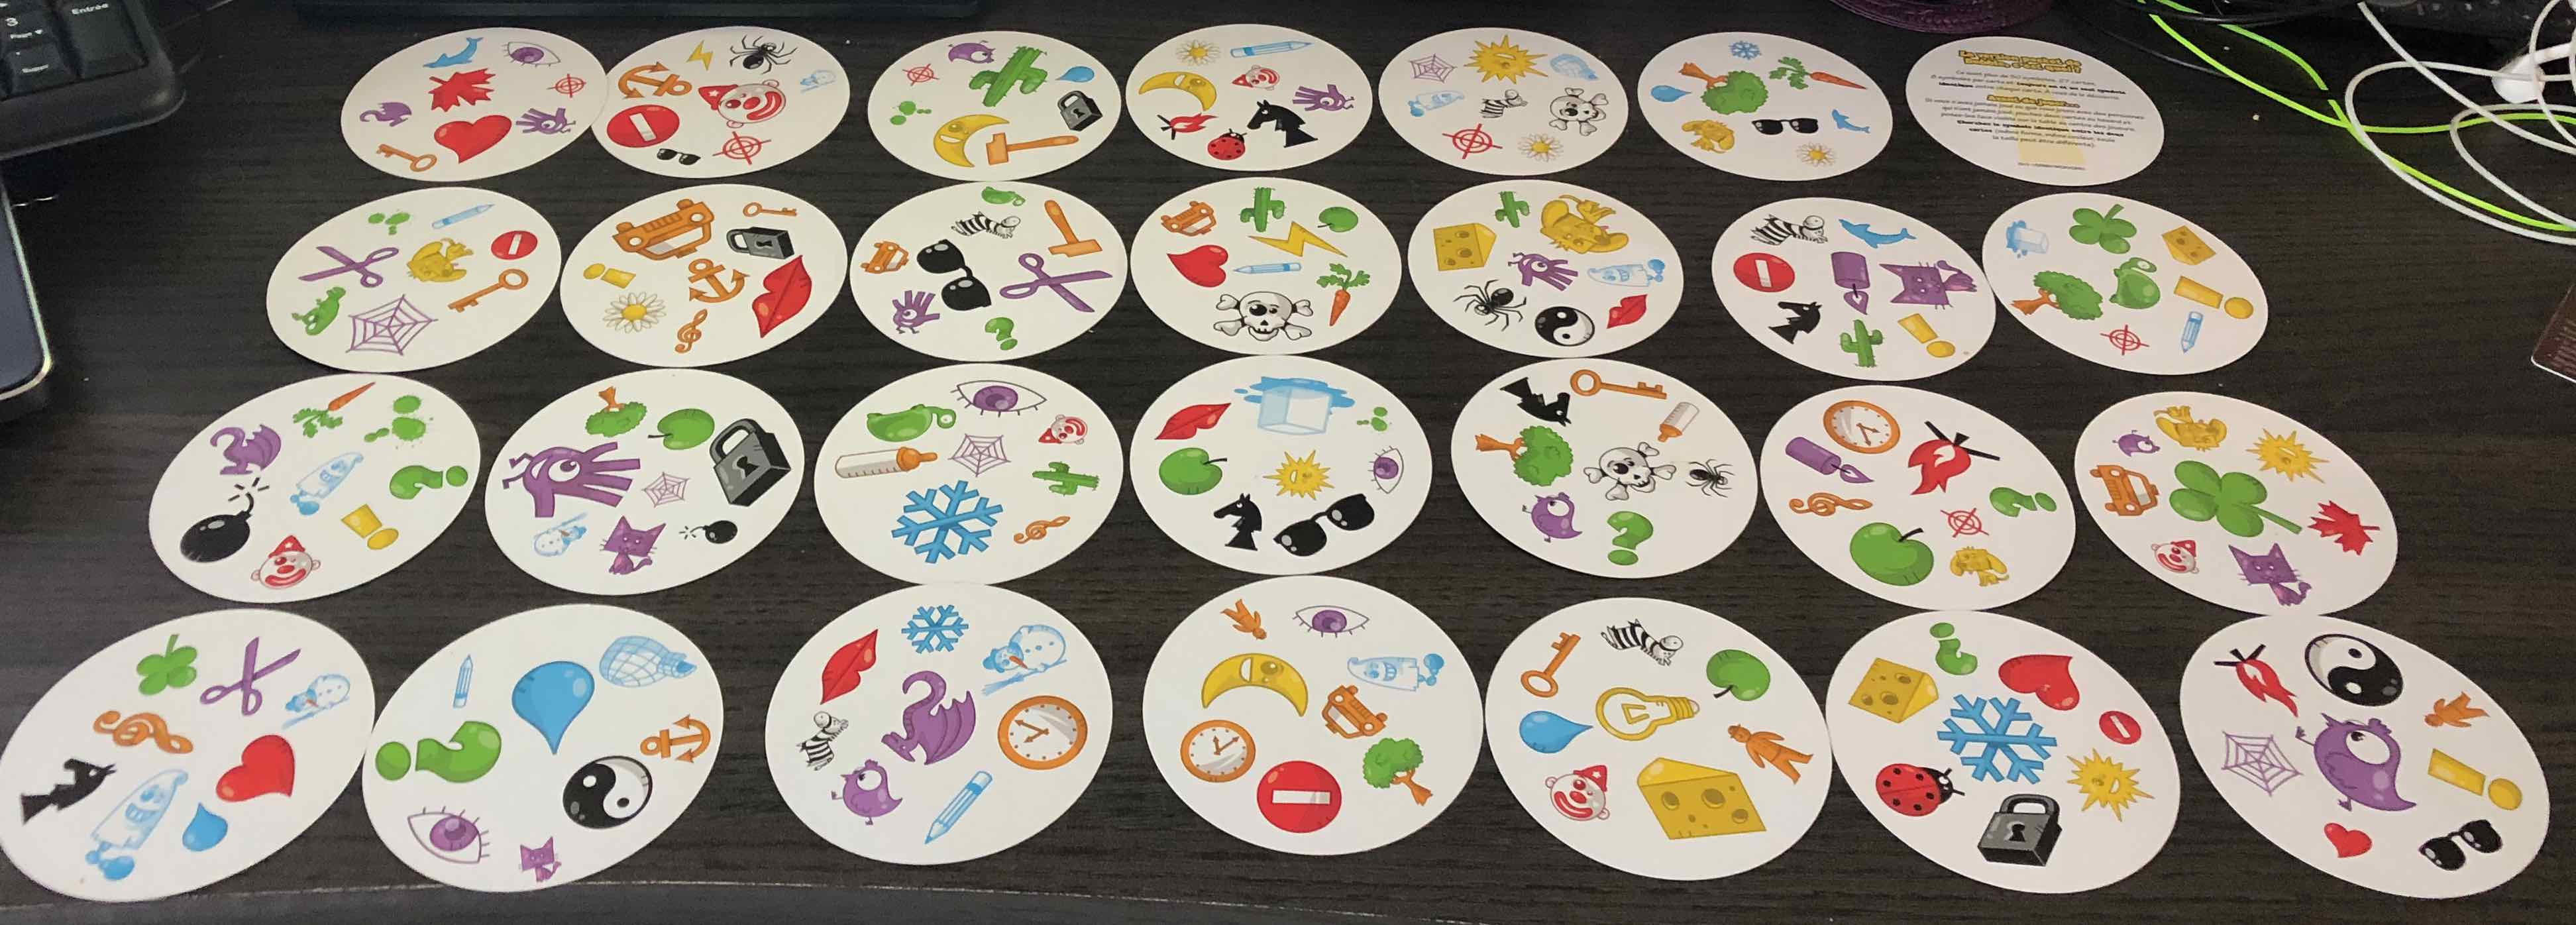ancre: (1221, 654, 1393, 731)
bouche: (521, 644, 644, 748)
chien: (1617, 752, 1758, 843), (1804, 654, 1929, 721)
dooble: (486, 432, 652, 521), (1845, 251, 1986, 311), (945, 373, 1032, 440)
feuille: (2280, 496, 2384, 559)
flocon: (1940, 693, 2057, 785), (902, 483, 1027, 557), (1217, 375, 1322, 439)
pomme: (1104, 449, 1222, 499)
tortue: (352, 721, 508, 789)
